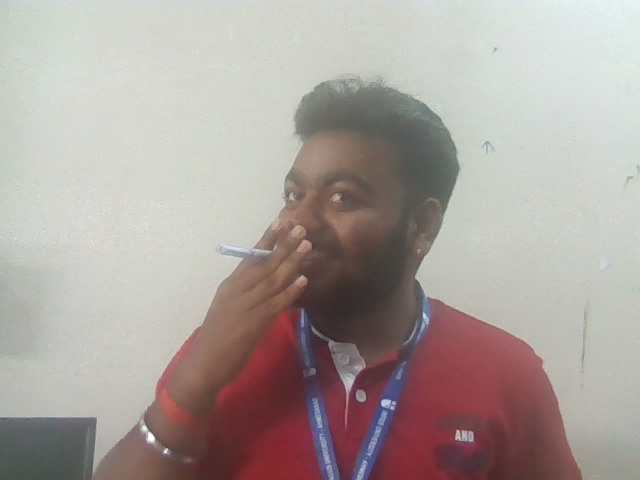smoking: (210, 219, 312, 357)
